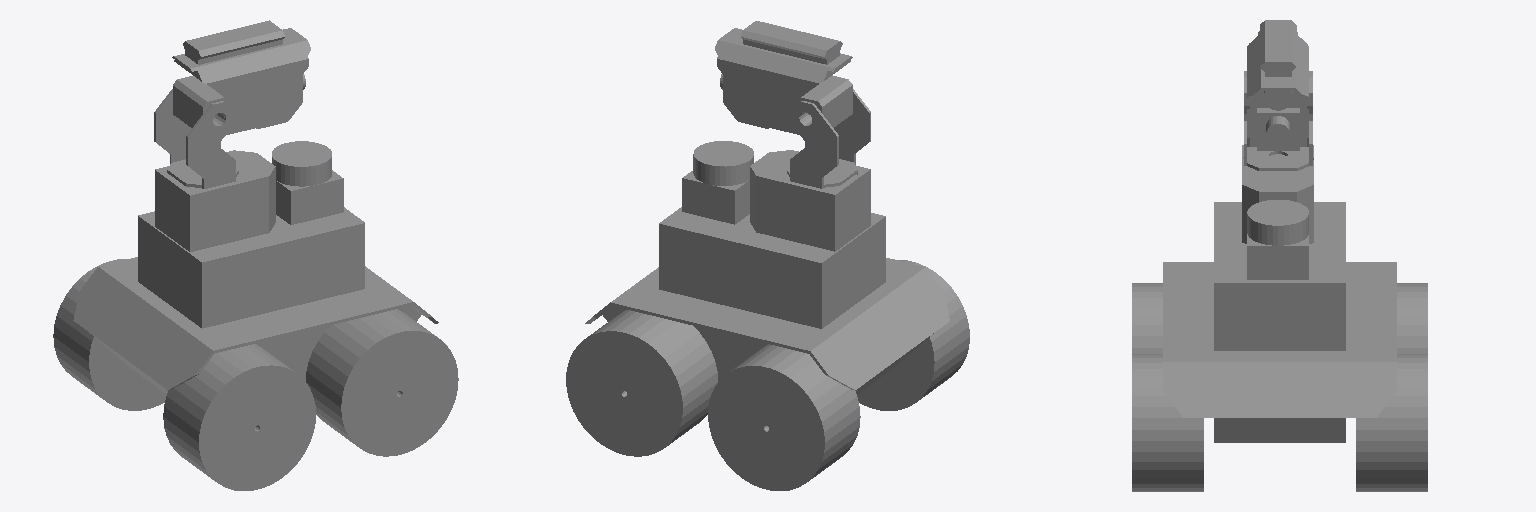
robot.urdf — rasp_rover:
<?xml version="1.0" encoding="utf-8"?>
<robot
  name="rasp_rover">
  <link name="base_footprint"></link>
  <link
    name="base_link">
    <inertial>
      <origin
        xyz="-0.000162422869269728 4.57988681701327E-15 0.0452361557646266"
        rpy="0 0 0" />
      <mass
        value="1.04143299444137" />
      <inertia
        ixx="0.00130964432205038"
        ixy="-2.24104232540393E-17"
        ixz="2.87884702855107E-05"
        iyy="0.00259816035443436"
        iyz="-1.97265629397348E-17"
        izz="0.00240218497851418" />
    </inertial>
    <visual>
      <origin
        xyz="0 0 0"
        rpy="0 0 0" />
      <geometry>
        <mesh
          filename="package://ugv_description/meshes/rasp_rover/base_link.stl" />
      </geometry>
      <material
        name="">
        <color
          rgba="0.627450980392157 0.627450980392157 0.627450980392157 1" />
      </material>
    </visual>
    <collision>
      <origin
        xyz="0 0 0"
        rpy="0 0 0" />
      <geometry>
        <mesh
          filename="package://ugv_description/meshes/rasp_rover/base_link.stl" />
      </geometry>
    </collision>
  </link>
  
  <joint name="base_joint" type="fixed">
    <parent link="base_footprint"/>
    <child link="base_link"/>
    <origin xyz="0.000460087791654118 6.50856019576702E-10 0.03" rpy="0 0 0"/> 
  </joint>

  <link name="base_imu_link"> 
      <origin xyz="0 0 0" rpy="0 0 0"/> 
  </link>
  
  <joint name="imu_joint" type="fixed">
      <parent link="base_link" />
      <child link="base_imu_link" />
      <origin xyz="0 0 0" rpy="0 0 0"/>
  </joint>
      
  <link
    name="left_up_wheel_link">
    <inertial>
      <origin
        xyz="-6.24500451351651E-16 0.0267900126654631 0"
        rpy="0 0 0" />
      <mass
        value="0.210587238755431" />
      <inertia
        ixx="0.000115401806837977"
        ixy="-1.32501719335198E-18"
        ixz="-4.34981020424034E-35"
        iyy="0.000168890965481856"
        iyz="2.371691443642E-21"
        izz="0.000115401806837977" />
    </inertial>
    <visual>
      <origin
        xyz="0 0 0"
        rpy="0 0 0" />
      <geometry>
        <mesh
          filename="package://ugv_description/meshes/rasp_rover/left_up_wheel_link.stl" />
      </geometry>
      <material
        name="">
        <color
          rgba="0.627450980392157 0.627450980392157 0.627450980392157 1" />
      </material>
    </visual>
    <collision>
      <origin
        xyz="0 0 0"
        rpy="0 0 0" />
      <geometry>
        <mesh
          filename="package://ugv_description/meshes/rasp_rover/left_up_wheel_link.stl" />
      </geometry>
    </collision>
  </link>
  <joint
    name="left_up_wheel_link_joint"
    type="continuous">
    <origin
      xyz="0.0494657123506755 0.0380100014305094 0.00674802802973084"
      rpy="0 0 0" />
    <parent
      link="base_link" />
    <child
      link="left_up_wheel_link" />
    <axis
      xyz="0 -1 0" />
  </joint>
  <link
    name="left_down_wheel_link">
    <inertial>
      <origin
        xyz="-6.27969898303604E-16 0.0267900126654662 0"
        rpy="0 0 0" />
      <mass
        value="0.210587238755431" />
      <inertia
        ixx="0.000115401806837977"
        ixy="-1.32808581259249E-18"
        ixz="1.27628957046806E-32"
        iyy="0.000168890965481856"
        iyz="-5.16307112015383E-19"
        izz="0.000115401806837977" />
    </inertial>
    <visual>
      <origin
        xyz="0 0 0"
        rpy="0 0 0" />
      <geometry>
        <mesh
          filename="package://ugv_description/meshes/rasp_rover/left_down_wheel_link.stl" />
      </geometry>
      <material
        name="">
        <color
          rgba="0.627450980392157 0.627450980392157 0.627450980392157 1" />
      </material>
    </visual>
    <collision>
      <origin
        xyz="0 0 0"
        rpy="0 0 0" />
      <geometry>
        <mesh
          filename="package://ugv_description/meshes/rasp_rover/left_down_wheel_link.stl" />
      </geometry>
    </collision>
  </link>
  <joint
    name="left_down_wheel_link_joint"
    type="continuous">
    <origin
      xyz="-0.0475324306493252 0.0380100014305063 0.00674802802973084"
      rpy="0 0 0" />
    <parent
      link="base_link" />
    <child
      link="left_down_wheel_link" />
    <axis
      xyz="0 -1 0" />
  </joint>
  <link
    name="right_up_wheel_link">
    <inertial>
      <origin
        xyz="1.85962356624714E-15 -0.0267900015875978 8.99280649946377E-15"
        rpy="0 0 0" />
      <mass
        value="0.210587238755431" />
      <inertia
        ixx="0.000115401806837977"
        ixy="-1.32501719335198E-18"
        ixz="-4.34981020424034E-35"
        iyy="0.000168890965481856"
        iyz="2.371691443642E-21"
        izz="0.000115401806837977" />
    </inertial>
    <visual>
      <origin
        xyz="0 0 0"
        rpy="0 0 0" />
      <geometry>
        <mesh
          filename="package://ugv_description/meshes/rasp_rover/right_up_wheel_link.stl" />
      </geometry>
      <material
        name="">
        <color
          rgba="0.627450980392157 0.627450980392157 0.627450980392157 1" />
      </material>
    </visual>
    <collision>
      <origin
        xyz="0 0 0"
        rpy="0 0 0" />
      <geometry>
        <mesh
          filename="package://ugv_description/meshes/rasp_rover/right_up_wheel_link.stl" />
      </geometry>
    </collision>
  </link>
  <joint
    name="right_up_wheel_link_joint"
    type="continuous">
    <origin
      xyz="0.0494657123506773 -0.0380100014304871 0.00674802802973084"
      rpy="0 0 0" />
    <parent
      link="base_link" />
    <child
      link="right_up_wheel_link" />
    <axis
      xyz="0 1 0" />
  </joint>
  <link
    name="right_down_wheel_link">
    <inertial>
      <origin
        xyz="1.81799020282369E-15 -0.0267900015875967 9.39526234589039E-15"
        rpy="0 0 0" />
      <mass
        value="0.210587238755431" />
      <inertia
        ixx="0.000115401806837977"
        ixy="-1.32501720355927E-18"
        ixz="1.27637476075258E-32"
        iyy="0.000168890965481856"
        iyz="-5.18688069050555E-19"
        izz="0.000115401806837977" />
    </inertial>
    <visual>
      <origin
        xyz="0 0 0"
        rpy="0 0 0" />
      <geometry>
        <mesh
          filename="package://ugv_description/meshes/rasp_rover/right_down_wheel_link.stl" />
      </geometry>
      <material
        name="">
        <color
          rgba="0.627450980392157 0.627450980392157 0.627450980392157 1" />
      </material>
    </visual>
    <collision>
      <origin
        xyz="0 0 0"
        rpy="0 0 0" />
      <geometry>
        <mesh
          filename="package://ugv_description/meshes/rasp_rover/right_down_wheel_link.stl" />
      </geometry>
    </collision>
  </link>
  <joint
    name="right_down_wheel_link_joint"
    type="continuous">
    <origin
      xyz="-0.0475324306493234 -0.0380100014304901 0.00674802802973144"
      rpy="0 0 0" />
    <parent
      link="base_link" />
    <child
      link="right_down_wheel_link" />
    <axis
      xyz="0 1 0" />
  </joint>
  <link
    name="base_lidar_link">
    <inertial>
      <origin
        xyz="0 -8.5259736538555E-19 0.0165546434494574"
        rpy="0 0 0" />
      <mass
        value="0.0418000091653573" />
      <inertia
        ixx="8.26853377699878E-06"
        ixy="2.40188591344428E-23"
        ixz="-8.79312987446486E-22"
        iyy="8.26853377699876E-06"
        iyz="2.55603864237559E-22"
        izz="8.32524607487378E-06" />
    </inertial>
    <visual>
      <origin
        xyz="0 0 0"
        rpy="0 0 0" />
      <geometry>
        <mesh
          filename="package://ugv_description/meshes/rasp_rover/base_lidar_link.stl" />
      </geometry>
      <material
        name="">
        <color
          rgba="0.627450980392157 0.627450980392157 0.627450980392157 1" />
      </material>
    </visual>
    <collision>
      <origin
        xyz="0 0 0"
        rpy="0 0 0" />
      <geometry>
        <mesh
          filename="package://ugv_description/meshes/rasp_rover/base_lidar_link.stl" />
      </geometry>
    </collision>
  </link>
  <joint
    name="base_lidar_link_joint"
    type="fixed">
    <origin
      xyz="0.0316958390518911 -0.00101477740749894 0.0976480280297308"
      rpy="0 0 0" />
    <parent
      link="base_link" />
    <child
      link="base_lidar_link" />
    <axis
      xyz="0 0 0" />
  </joint>
  <link
    name="pt_base_link">
    <inertial>
      <origin
        xyz="0.000134379819489959 2.90833197105934E-16 0.0182617060774291"
        rpy="0 0 0" />
      <mass
        value="0.0945048921416348" />
      <inertia
        ixx="2.38145161249806E-05"
        ixy="2.8154367304661E-19"
        ixz="-2.31618131911413E-07"
        iyy="4.1008262732435E-05"
        iyz="-5.24766720164598E-19"
        izz="4.37961106646478E-05" />
    </inertial>
    <visual>
      <origin
        xyz="0 0 0"
        rpy="0 0 0" />
      <geometry>
        <mesh
          filename="package://ugv_description/meshes/rasp_rover/pt_base_link.stl" />
      </geometry>
      <material
        name="">
        <color
          rgba="0.627450980392157 0.627450980392157 0.627450980392157 1" />
      </material>
    </visual>
    <collision>
      <origin
        xyz="0 0 0"
        rpy="0 0 0" />
      <geometry>
        <mesh
          filename="package://ugv_description/meshes/rasp_rover/pt_base_link.stl" />
      </geometry>
    </collision>
  </link>
  <joint
    name="pt_base_link_joint"
    type="fixed">
    <origin
      xyz="-0.02571 -0.0010148 0.097648"
      rpy="0 0 0" />
    <parent
      link="base_link" />
    <child
      link="pt_base_link" />
    <axis
      xyz="0 0 0" />
  </joint>
  <link
    name="pt_link1">
    <inertial>
      <origin
        xyz="-0.0033812921652727 -8.75612604489907E-15 0.0176096758355075"
        rpy="0 0 0" />
      <mass
        value="0.00710917409663916" />
      <inertia
        ixx="3.89716322571471E-06"
        ixy="-2.93525486696339E-19"
        ixz="2.32919366130508E-07"
        iyy="2.4980668051168E-06"
        iyz="-2.81783604495276E-19"
        izz="2.60402792588347E-06" />
    </inertial>
    <visual>
      <origin
        xyz="0 0 0"
        rpy="0 0 0" />
      <geometry>
        <mesh
          filename="package://ugv_description/meshes/rasp_rover/pt_link1.stl" />
      </geometry>
      <material
        name="">
        <color
          rgba="0.627450980392157 0.627450980392157 0.627450980392157 1" />
      </material>
    </visual>
    <collision>
      <origin
        xyz="0 0 0"
        rpy="0 0 0" />
      <geometry>
        <mesh
          filename="package://ugv_description/meshes/rasp_rover/pt_link1.stl" />
      </geometry>
    </collision>
  </link>
  <joint
    name="pt_base_link_to_pt_link1"
    type="revolute">
    <origin
      xyz="-0.010151 0 0.0383"
      rpy="0 0 0" />
    <parent
      link="pt_base_link" />
    <child
      link="pt_link1" />
    <axis
      xyz="0 0 1" />
    <limit
      lower="-3.14"
      upper="3.14"
      effort="0"
      velocity="0" />
  </joint>
  <link
    name="pt_link2">
    <inertial>
      <origin
        xyz="0.0218201278828442 0.0119590002643802 0.0200000000000005"
        rpy="0 0 0" />
      <mass
        value="0.0970496053012515" />
      <inertia
        ixx="3.07158301509253E-05"
        ixy="-9.60865010663691E-07"
        ixz="2.64790390663251E-19"
        iyy="3.74067734460566E-05"
        iyz="-1.69709121639232E-18"
        izz="4.94991610517831E-05" />
    </inertial>
    <visual>
      <origin
        xyz="0 0 0"
        rpy="0 0 0" />
      <geometry>
        <mesh
          filename="package://ugv_description/meshes/rasp_rover/pt_link2.stl" />
      </geometry>
      <material
        name="">
        <color
          rgba="0.627450980392157 0.627450980392157 0.627450980392157 1" />
      </material>
    </visual>
    <collision>
      <origin
        xyz="0 0 0"
        rpy="0 0 0" />
      <geometry>
        <mesh
          filename="package://ugv_description/meshes/rasp_rover/pt_link2.stl" />
      </geometry>
    </collision>
  </link>
  <joint
    name="pt_link1_to_pt_link2"
    type="revolute">
    <origin
      xyz="0 0.02 0.043003"
      rpy="1.5708 0 0" />
    <parent
      link="pt_link1" />
    <child
      link="pt_link2" />
    <axis
      xyz="0 0 1" />
    <limit
      lower="-0.5233333"
      upper="1.5707963"
      effort="0"
      velocity="0" />
  </joint>
  <link
    name="pt_camera_link">
    <inertial>
      <origin
        xyz="0.00630730338217479 1.15370105053482E-16 0.000950308188413934"
        rpy="0 -1.5708 1.5708" />
      <mass
        value="0.00623651844028495" />
      <inertia
        ixx="5.11295942352593E-07"
        ixy="2.50916422532913E-21"
        ixz="-4.00917493406375E-08"
        iyy="3.99078324787848E-07"
        iyz="-6.43452110015932E-22"
        izz="4.02518684222241E-07" />
    </inertial>
    <visual>
      <origin
        xyz="0 0 0"
        rpy="0 -1.5708 1.5708" />
      <geometry>
        <mesh
          filename="package://ugv_description/meshes/rasp_rover/pt_camera_link.stl" />
      </geometry>
      <material
        name="">
        <color
          rgba="0.627450980392157 0.627450980392157 0.627450980392157 1" />
      </material>
    </visual>
    <collision>
      <origin
        xyz="0 0 0"
        rpy="0 -1.5708 1.5708" />
      <geometry>
        <mesh
          filename="package://ugv_description/meshes/rasp_rover/pt_camera_link.stl" />
      </geometry>
    </collision>
  </link>
  <joint
    name="pt_camera_link_joint"
    type="fixed">
    <origin
      xyz="0.047686 -0.000569 0.02"
      rpy="3.14 -1.5708 0" />
    <parent
      link="pt_link2" />
    <child
      link="pt_camera_link" />
    <axis
      xyz="0 0 0" />
  </joint>
</robot>

--- Facts derived from the render (not from the file) ---
Views: 3 orthographic renders of the robot side by side, from view 1: azimuth 30°, elevation 25°; view 2: azimuth 150°, elevation 25°; view 3: azimuth 270°, elevation 25°.
Robot: rasp_rover — 12 links, 11 joints (2 revolute, 4 continuous, 5 fixed); root link base_footprint; default pose: all joints at 0.
Links seen in each view (by area): view 1: base_link, right_up_wheel_link, right_down_wheel_link, pt_link2, pt_base_link, left_down_wheel_link, pt_link1, base_lidar_link; view 2: base_link, left_up_wheel_link, left_down_wheel_link, pt_link2, pt_base_link, right_down_wheel_link, pt_link1, base_lidar_link; view 3: base_link, left_up_wheel_link, right_up_wheel_link, pt_link2, base_lidar_link, pt_base_link, left_down_wheel_link, right_down_wheel_link, pt_link1, pt_camera_link.
Link boxes in pixels (x1,y1,x2,y2): base_link: (73,207,438,394); right_up_wheel_link: (306,309,458,456); right_down_wheel_link: (163,344,315,490); pt_link2: (172,20,310,134); pt_base_link: (155,150,275,251); left_down_wheel_link: (53,259,166,410); pt_link1: (154,89,238,188); base_lidar_link: (272,141,343,224); base_link: (585,207,949,394); left_up_wheel_link: (566,310,717,456); left_down_wheel_link: (708,344,860,490); pt_link2: (715,21,852,134); pt_base_link: (750,150,870,251); right_down_wheel_link: (857,260,969,410); pt_link1: (787,89,870,188); base_lidar_link: (682,141,753,224); base_link: (1163,202,1396,442); left_up_wheel_link: (1356,354,1427,491); right_up_wheel_link: (1132,354,1203,491); pt_link2: (1247,20,1308,146); base_lidar_link: (1247,200,1308,279); pt_base_link: (1242,145,1313,243); left_down_wheel_link: (1397,283,1427,353); right_down_wheel_link: (1132,283,1162,353); pt_link1: (1244,71,1312,170); pt_camera_link: (1257,108,1299,150).
Bounding box of the posed robot: 0.1847 × 0.1716 × 0.2536 m (x, y, z).
10 mesh visuals loaded from 10 distinct referenced files (10 binary STL).